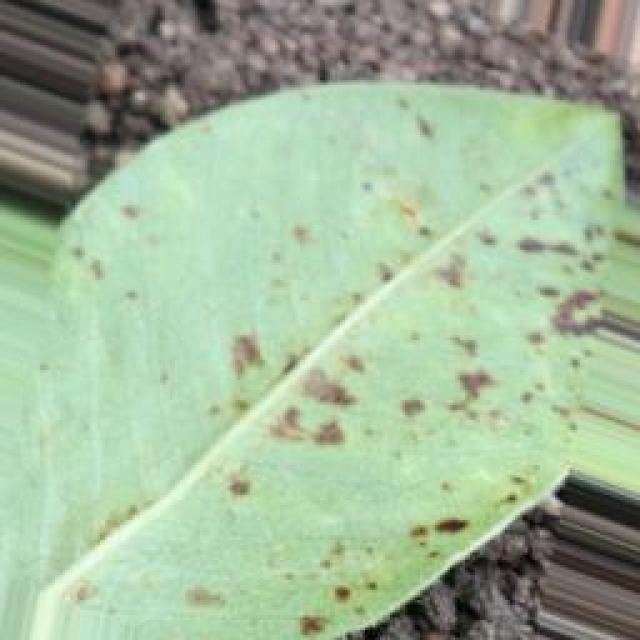Whitefly: (68, 60, 614, 640)
